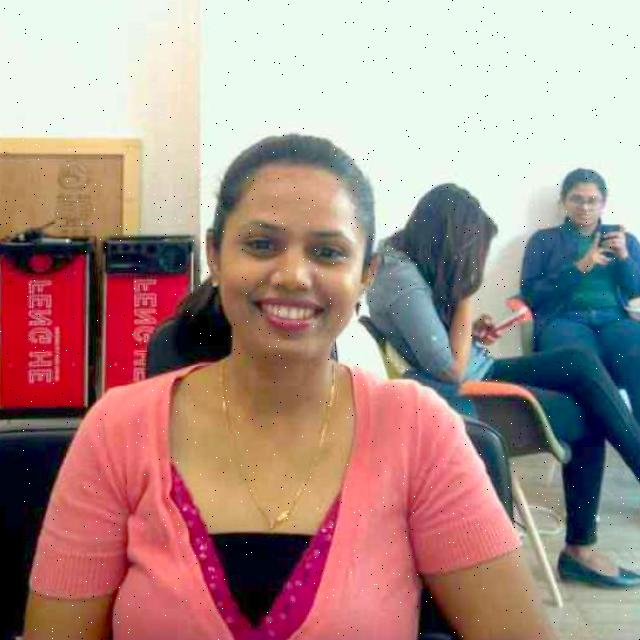puffy_eyes: (244, 249, 277, 260), (309, 256, 347, 264)
